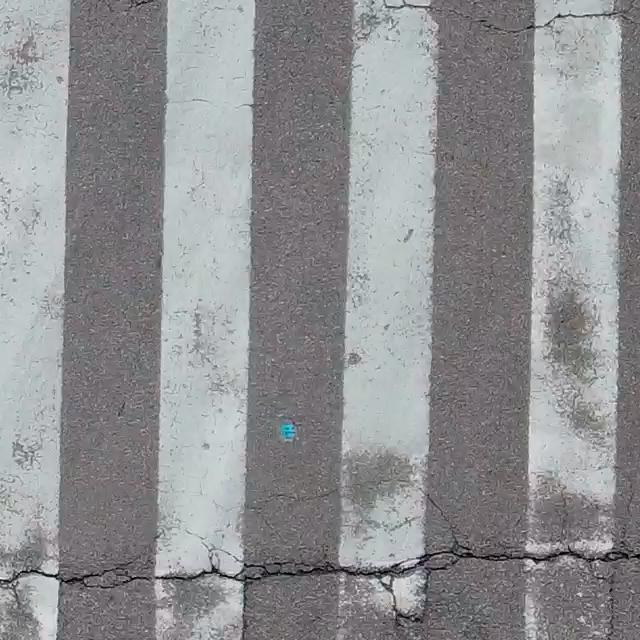GRIETA: (0, 543, 639, 590), (259, 476, 461, 542), (381, 0, 638, 35), (606, 566, 618, 639)
PIEL DE COCODRILO: (127, 507, 246, 566), (377, 575, 434, 634)
